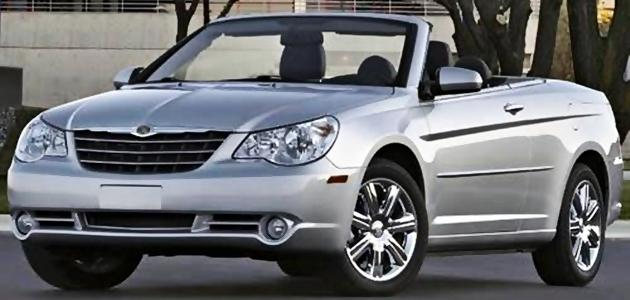Chrysler: (67, 120, 220, 142)
